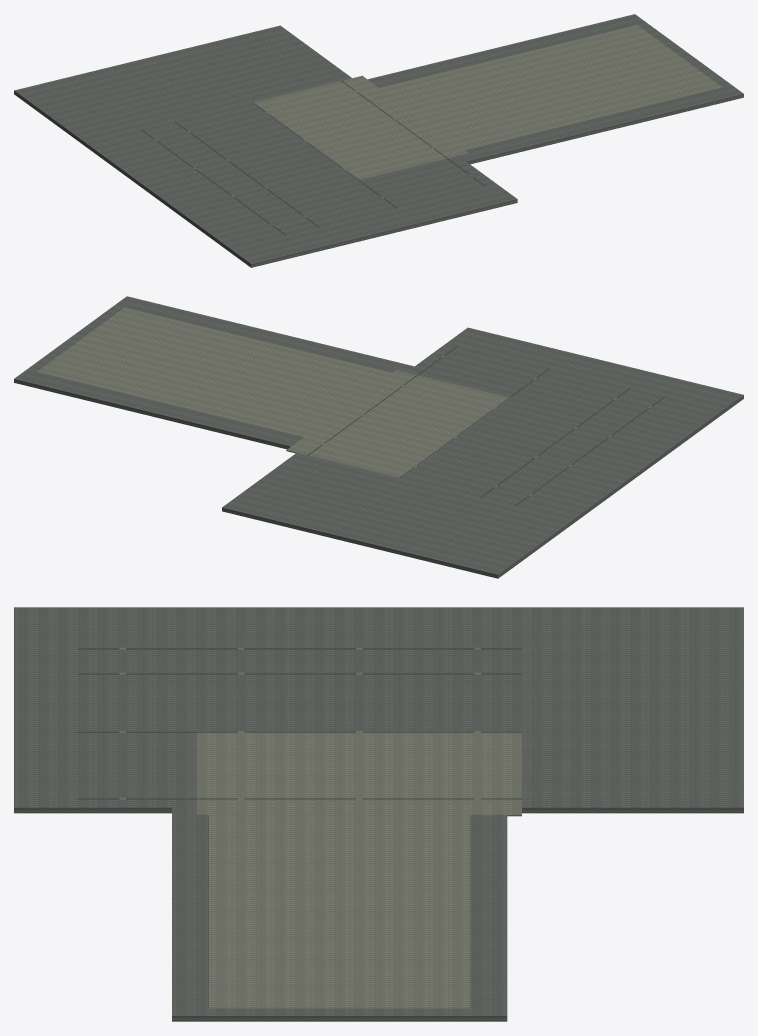
File: ground.glb
3 views of the same model, one above another, from view 1: azimuth 30°, elevation 25°; view 2: azimuth 150°, elevation 25°; view 3: azimuth 270°, elevation 25° (orthographic). The views are drawn at different scales.
Parts seen in each view (by area): view 1: StreetPaving, LandmarkFooting, ForecourtPaving, ChurchSidePaving, Block_Substrate_West, Block_Substrate_East; view 2: StreetPaving, LandmarkFooting, ForecourtPaving, ChurchSidePaving, Block_Substrate_West, Block_Substrate_East; view 3: StreetPaving, LandmarkFooting, ForecourtPaving, ChurchSidePaving, Block_Substrate_West, Block_Substrate_East, DrainChannel, DrainChannel.001, DrainChannel.002, DrainChannel.003.
Part boxes in pixels (x1,y1,x2,y2): StreetPaving: [14, 25, 517, 264]; LandmarkFooting: [368, 25, 721, 152]; ForecourtPaving: [252, 75, 467, 179]; ChurchSidePaving: [368, 14, 743, 162]; Block_Substrate_West: [14, 91, 517, 267]; Block_Substrate_East: [467, 95, 743, 164]; StreetPaving: [222, 327, 743, 575]; LandmarkFooting: [37, 307, 402, 439]; ForecourtPaving: [286, 370, 510, 477]; ChurchSidePaving: [14, 296, 414, 446]; Block_Substrate_West: [222, 396, 743, 578]; Block_Substrate_East: [14, 380, 289, 449]; StreetPaving: [14, 607, 743, 808]; LandmarkFooting: [208, 806, 470, 1008]; ForecourtPaving: [196, 731, 521, 816]; ChurchSidePaving: [172, 807, 507, 1017]; Block_Substrate_West: [14, 808, 743, 813]; Block_Substrate_East: [172, 1017, 507, 1021]; DrainChannel: [78, 648, 521, 649]; DrainChannel.001: [78, 673, 521, 674]; DrainChannel.002: [78, 731, 521, 732]; DrainChannel.003: [78, 798, 521, 799].
Bounding box in the file's own units: 98 × 0.745 × 74.
Materials: 4 (3 with a texture image).
